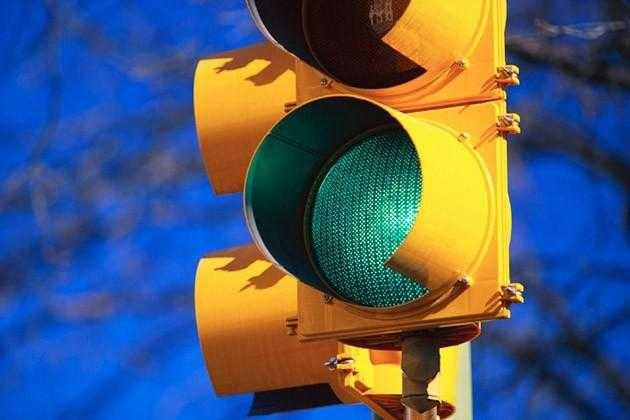red: (274, 121, 471, 293)
